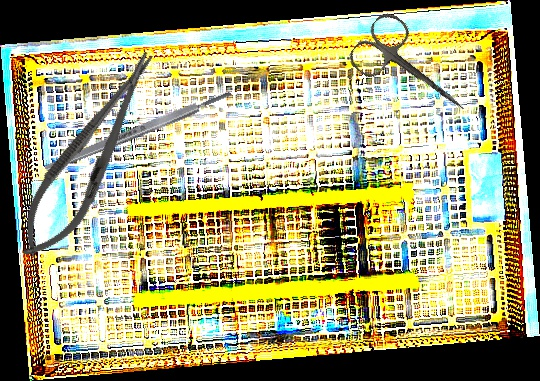Iris Scissors: (344, 7, 484, 137)
Needle Holder: (3, 39, 176, 272)
Scalpel Handle: (43, 87, 233, 175)
